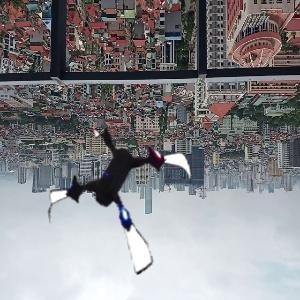drone: (44, 118, 204, 278)
